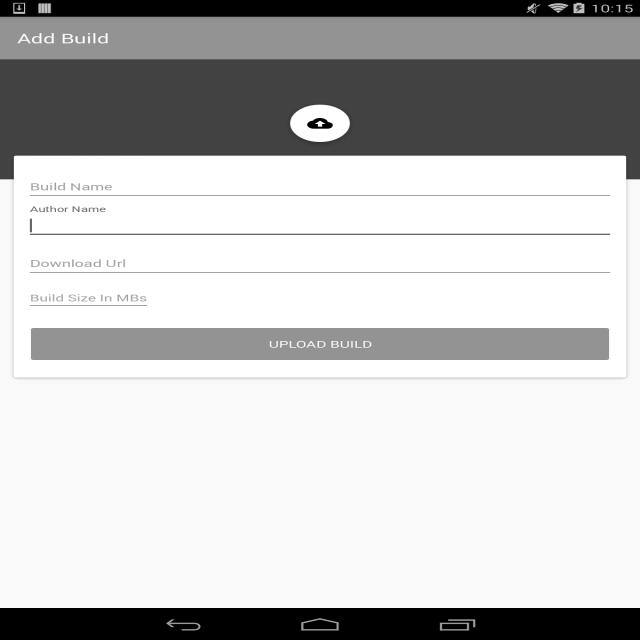Button: (31, 328, 609, 360)
EditText: (26, 212, 614, 240), (26, 250, 614, 278), (26, 174, 614, 201), (26, 285, 152, 311)
ImageButton: (277, 93, 363, 154)
ImageView: (0, 59, 640, 180)
TextView: (17, 29, 109, 47)
